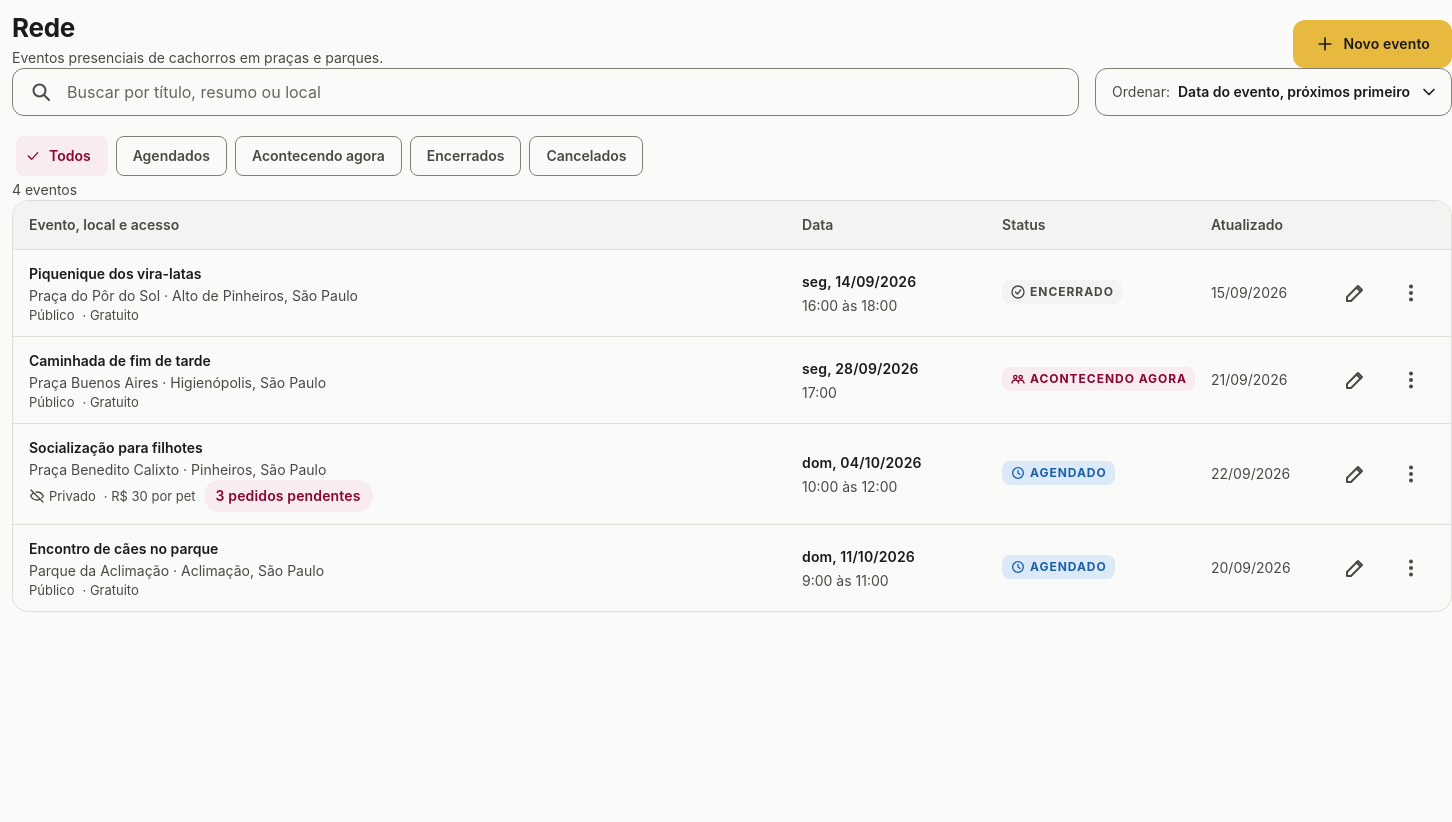
Rede: lista › busca digitada chega ao servidor e o sem resultado diz o que limpar
Expected: the text "4 eventos" is shown, [12,181,77,198]
Type "jacaré" into the search field named "Buscar eventos".
click(566, 92); type("jacaré")  # box [65,79,1066,105]
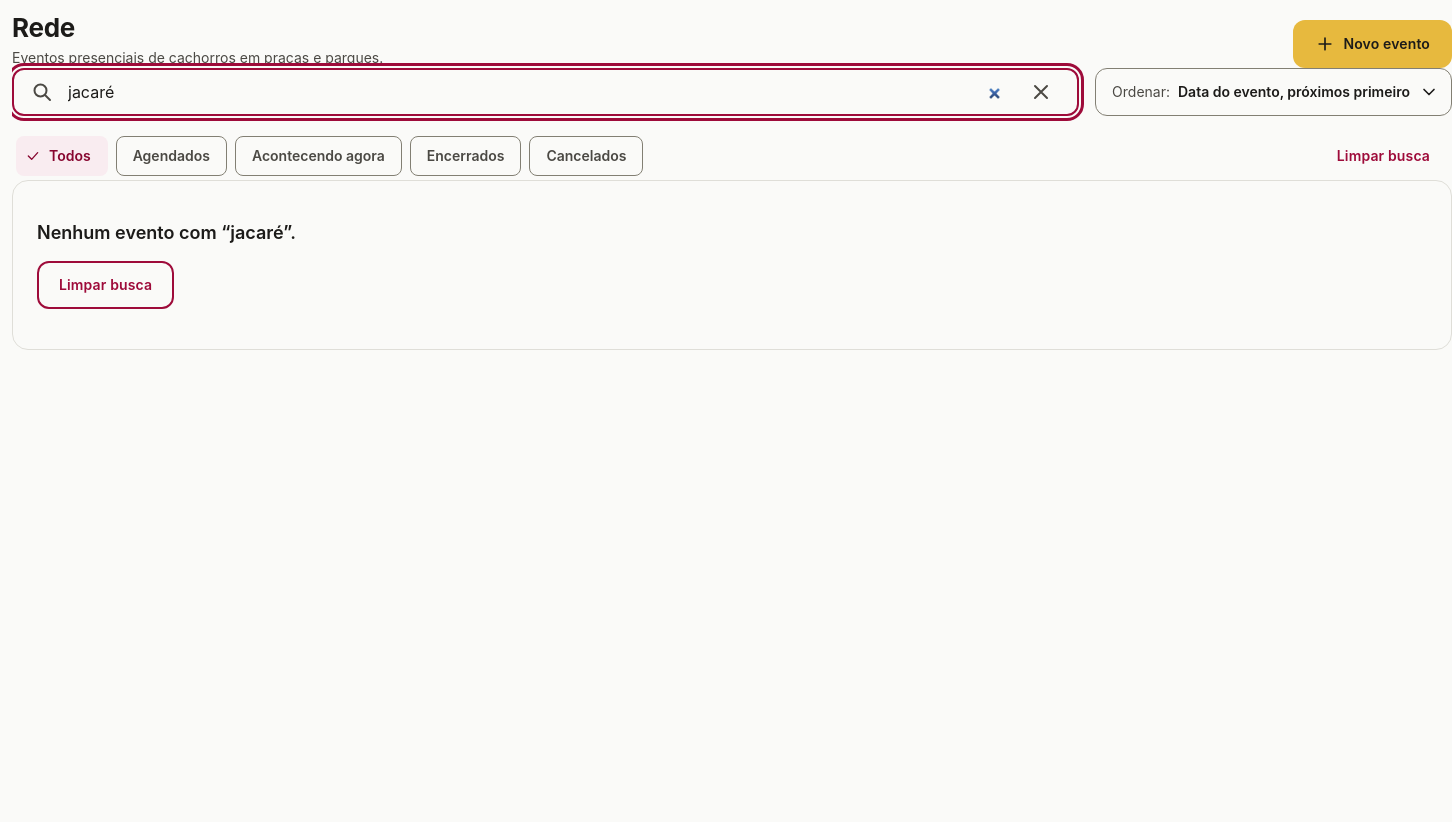
Result: the text "Nenhum evento com “jacaré”." is shown at [37,221,296,245]
Click the button "Limpar busca" below "Nenhum evento com “jacaré”.".
click(106, 285)  # box [37,261,174,309]
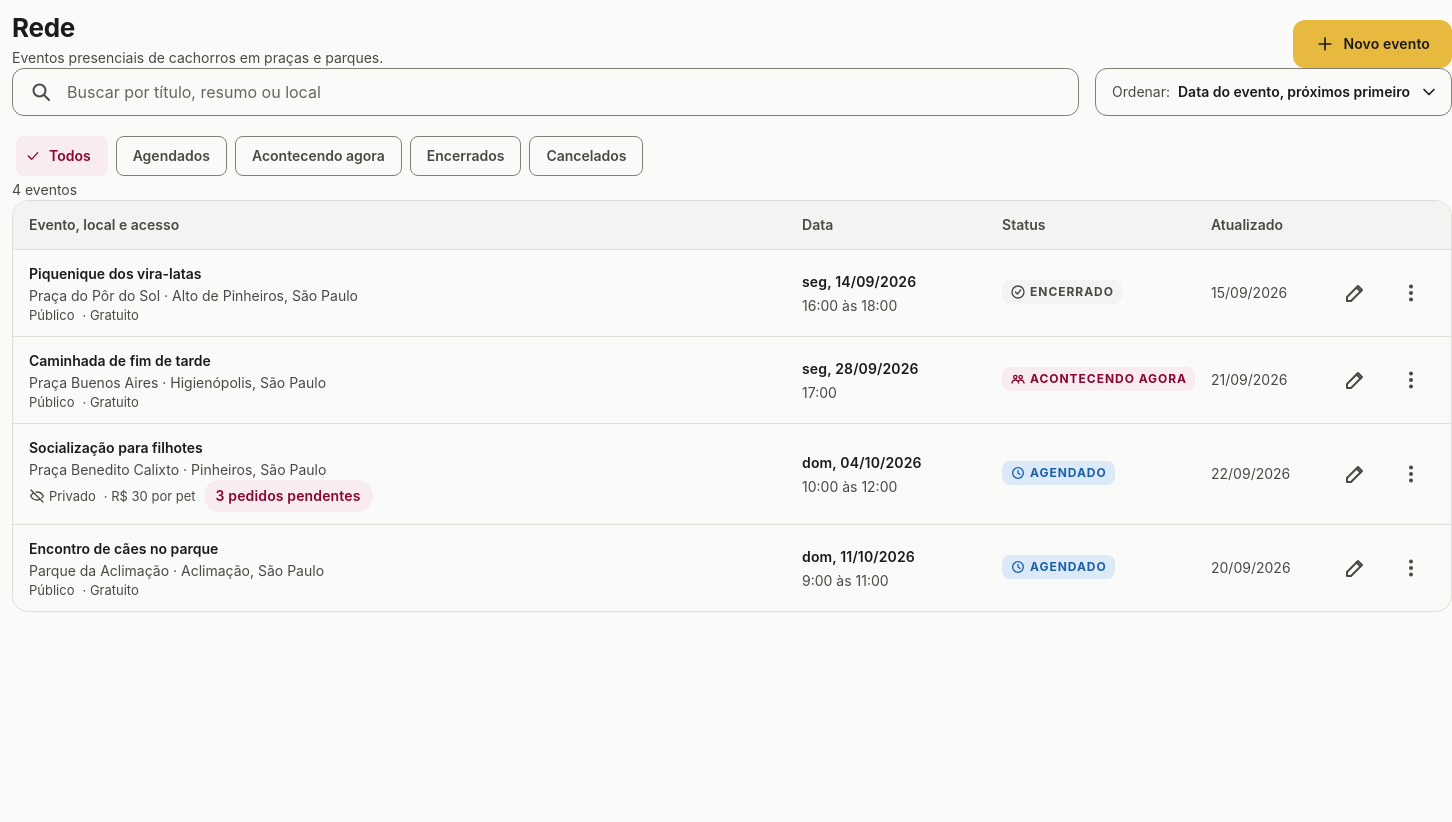
Result: the text "4 eventos" is shown at [12,181,77,198]
